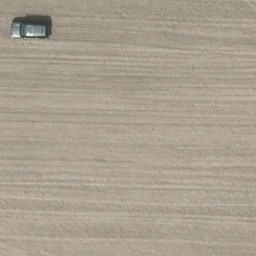car: (9, 20, 51, 39)
